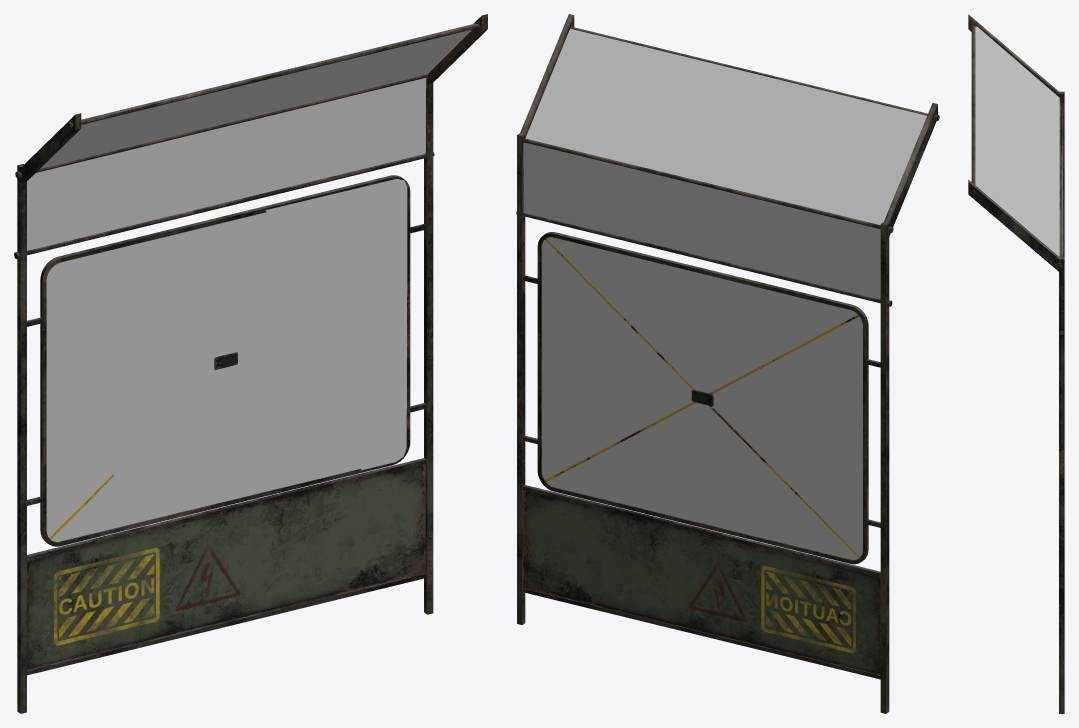
File: fences.fbx
The picture shows the model from 3 angles, left to right: view 1: azimuth 30°, elevation 25°; view 2: azimuth 150°, elevation 25°; view 3: azimuth 270°, elevation 25°; orthographic projection. The views are drawn at different scales.
Visible parts, largest first — view 1: polySurface1, polySurface10, polySurface16, polySurface15, polySurface7, polySurface4, polySurface2, polySurface9, polySurface8, polySurface6, polySurface3, polySurface5; view 2: polySurface20, polySurface23, polySurface21, polySurface22, polySurface7, polySurface4, polySurface2, polySurface9, polySurface8, polySurface5, polySurface3, polySurface6 (+2 smaller); view 3: polySurface23, polySurface2, polySurface4, polySurface6, polySurface5, polySurface15, polySurface3.
Boxes of the visible parts, x1,y1,x2,y2 form: polySurface1: [46, 179, 407, 541]; polySurface10: [27, 464, 425, 669]; polySurface16: [27, 78, 426, 250]; polySurface15: [40, 29, 472, 168]; polySurface7: [40, 175, 410, 546]; polySurface4: [17, 113, 81, 713]; polySurface2: [424, 14, 487, 614]; polySurface9: [27, 458, 426, 561]; polySurface8: [27, 573, 426, 675]; polySurface6: [67, 23, 479, 128]; polySurface3: [14, 152, 434, 258]; polySurface5: [15, 74, 427, 178]; polySurface20: [542, 237, 862, 559]; polySurface23: [525, 28, 926, 224]; polySurface21: [523, 490, 880, 675]; polySurface22: [523, 143, 880, 299]; polySurface7: [537, 232, 868, 564]; polySurface4: [880, 103, 937, 713]; polySurface2: [517, 14, 574, 624]; polySurface9: [523, 485, 880, 577]; polySurface8: [523, 588, 880, 679]; polySurface5: [524, 138, 893, 232]; polySurface3: [516, 211, 892, 306]; polySurface6: [570, 26, 939, 120]; polySurface23: [976, 26, 1059, 256]; polySurface2: [968, 179, 1064, 713]; polySurface4: [968, 14, 1064, 256]; polySurface6: [971, 25, 975, 194]; polySurface5: [1057, 98, 1061, 266]; polySurface15: [975, 27, 976, 185]; polySurface3: [1059, 166, 1063, 334].
Size of the model in its own units: 372 by 544 by 89.44.
